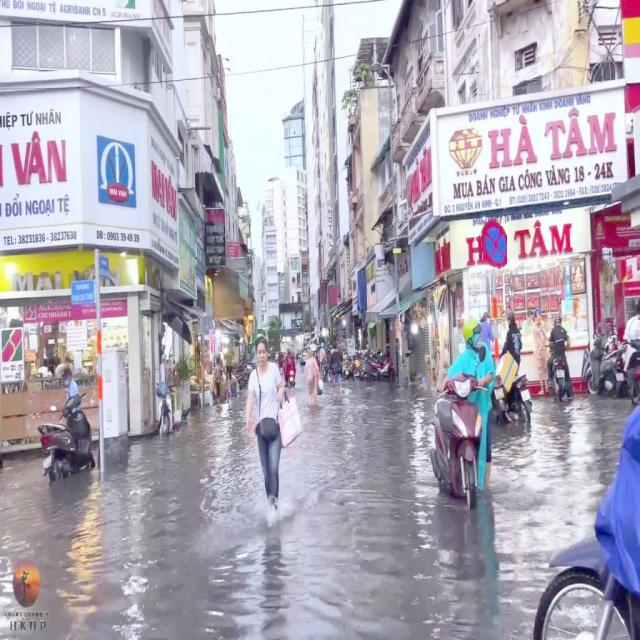cam_dung_xe_va_do_xe: (478, 219, 507, 269)
